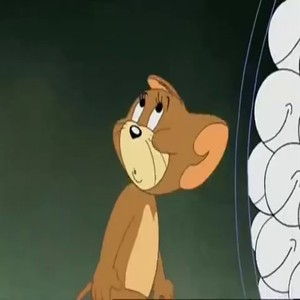Jerry: (77, 74, 233, 299)
